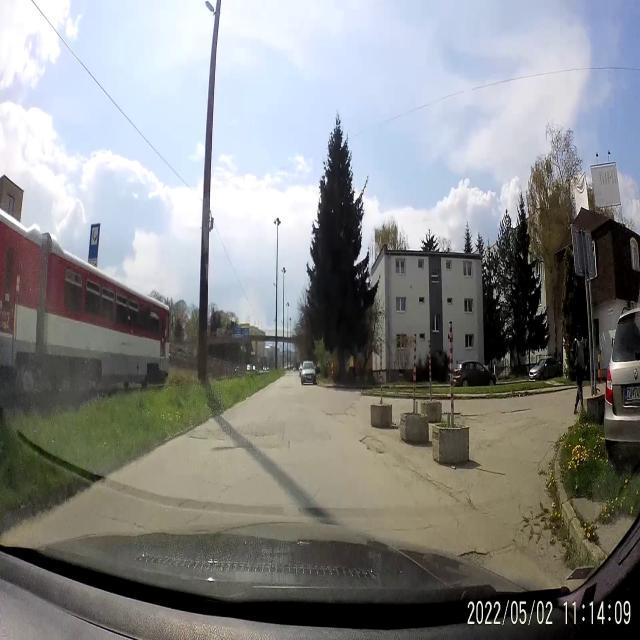Pothole: (358, 432, 388, 462), (212, 444, 242, 456)
